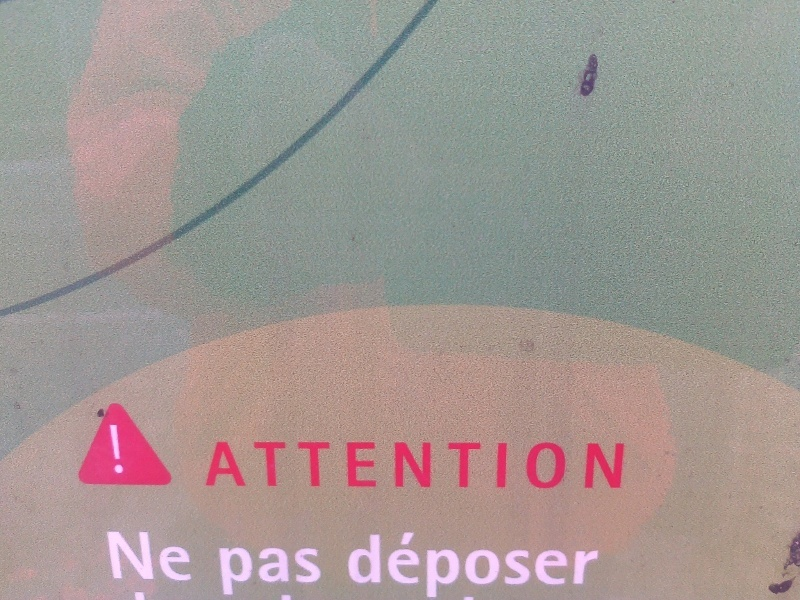text: (353, 531, 368, 600), (369, 531, 384, 600), (385, 531, 400, 600), (401, 531, 416, 600), (417, 531, 432, 600), (433, 531, 448, 600), (449, 531, 464, 600), (465, 531, 480, 600), (481, 531, 496, 600), (497, 531, 512, 600), (513, 531, 528, 600), (529, 531, 544, 600), (545, 531, 560, 600), (561, 531, 576, 600), (577, 531, 592, 600), (609, 441, 625, 491), (113, 529, 128, 581), (129, 529, 144, 581), (145, 529, 160, 581), (161, 529, 176, 581), (177, 529, 192, 581), (225, 546, 240, 597), (241, 546, 256, 597), (257, 546, 272, 597), (273, 546, 288, 597), (289, 546, 304, 597), (305, 546, 320, 597), (593, 531, 604, 600), (209, 441, 224, 491), (225, 441, 240, 491), (241, 441, 256, 491), (257, 441, 272, 491), (273, 441, 288, 491), (289, 441, 304, 491), (305, 441, 320, 491), (321, 441, 336, 491), (337, 441, 352, 491), (353, 441, 368, 491), (369, 441, 384, 491), (385, 441, 400, 491), (401, 441, 416, 491), (417, 441, 432, 491), (433, 441, 448, 491), (449, 441, 464, 491), (465, 441, 480, 491), (481, 441, 496, 491), (497, 441, 512, 491), (513, 441, 528, 491), (529, 441, 544, 491), (545, 441, 560, 491), (561, 441, 576, 491), (577, 441, 592, 491), (593, 441, 608, 491), (113, 424, 125, 476), (218, 546, 224, 597), (348, 531, 352, 600), (107, 529, 112, 581), (109, 424, 112, 476), (321, 546, 322, 597), (207, 441, 208, 491)
